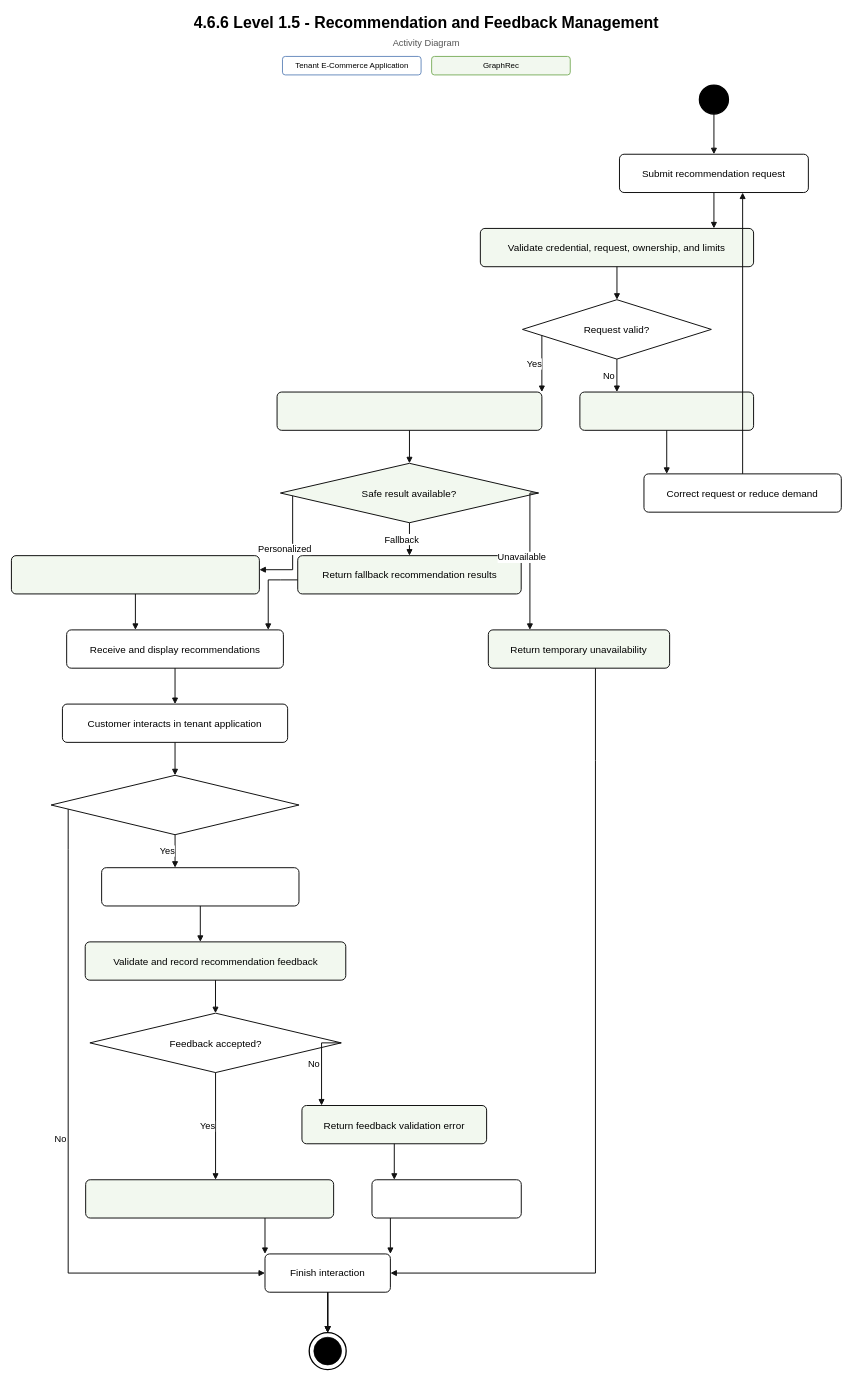
This 853x1381 diagram has some shape labels left out. The shapes that lost their labels are listed below. From the top down, each one's centre as x and y in pixels, then its label:
At (x=409, y=411): "Prepare tenant-specific recommendation results".
At (x=666, y=411): "Return validation or limit error".
At (x=135, y=574): "Return personalized recommendation results".
At (x=174, y=805): "Feedback available?".
At (x=200, y=886): "Submit recommendation feedback".
At (x=209, y=1198): "Return acceptance or duplicate confirmation".
At (x=446, y=1198): "Correct reference or stop".
